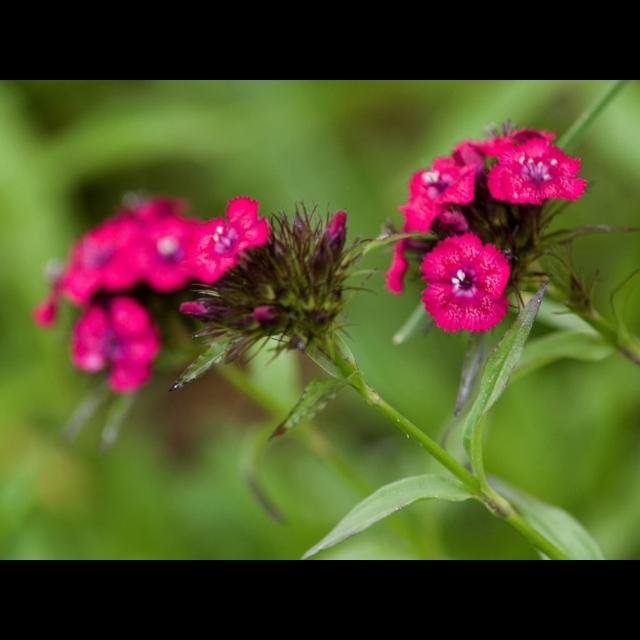Flower: (28, 193, 274, 394), (383, 117, 589, 296), (409, 220, 515, 330)
